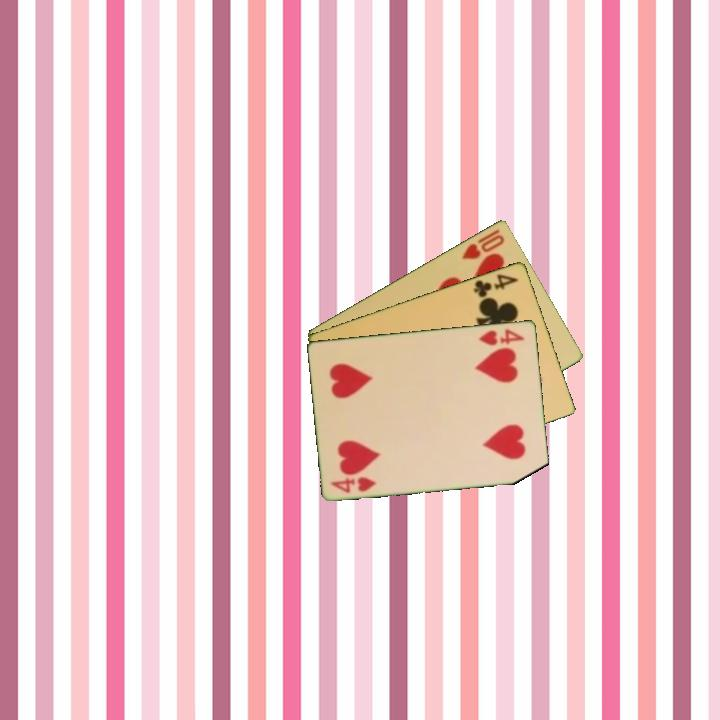10h: (458, 225, 508, 262)
4c: (470, 270, 521, 300)
4h: (476, 325, 527, 348), (327, 473, 379, 495)
